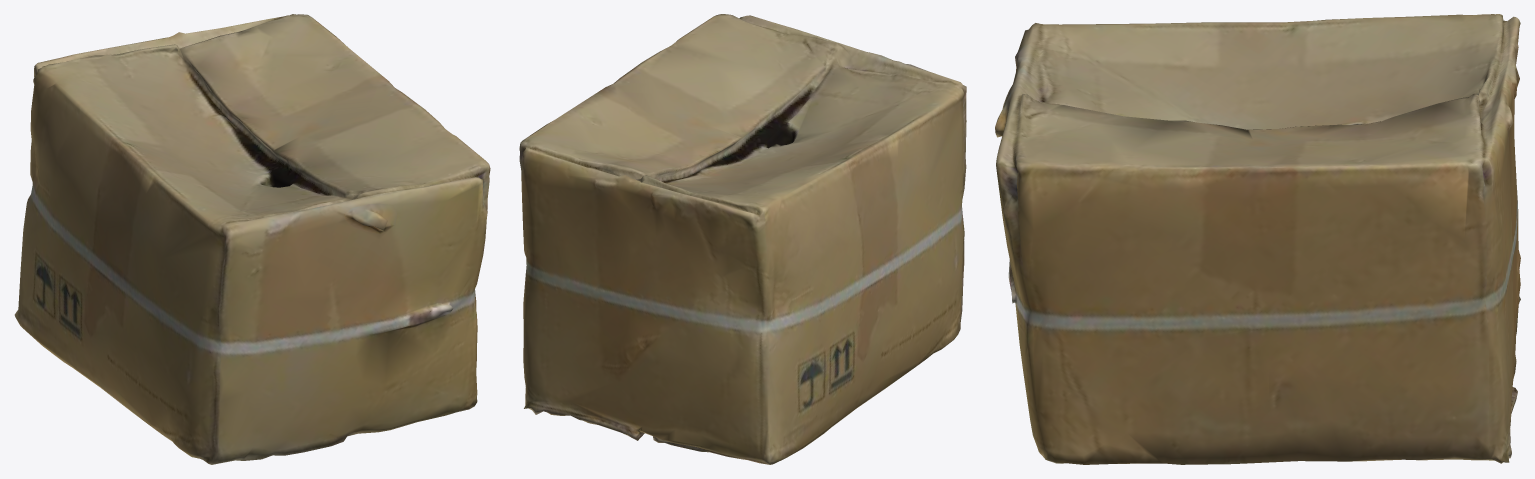
Rendered from cardboard.glb.
3 views of the same model, side by side, from view 1: azimuth 30°, elevation 25°; view 2: azimuth 150°, elevation 25°; view 3: azimuth 270°, elevation 25° (orthographic). The views are drawn at different scales.
Parts seen in each view (by area): view 1: cardboard_box_01; view 2: cardboard_box_01; view 3: cardboard_box_01.
Part boxes in pixels (x1,y1,x2,y2): cardboard_box_01: (14,14,490,464); cardboard_box_01: (519,14,966,464); cardboard_box_01: (995,14,1520,464).
Bounding box in the file's own units: 0.3868 × 0.3418 × 0.5159.
1 material, 1 textured.
